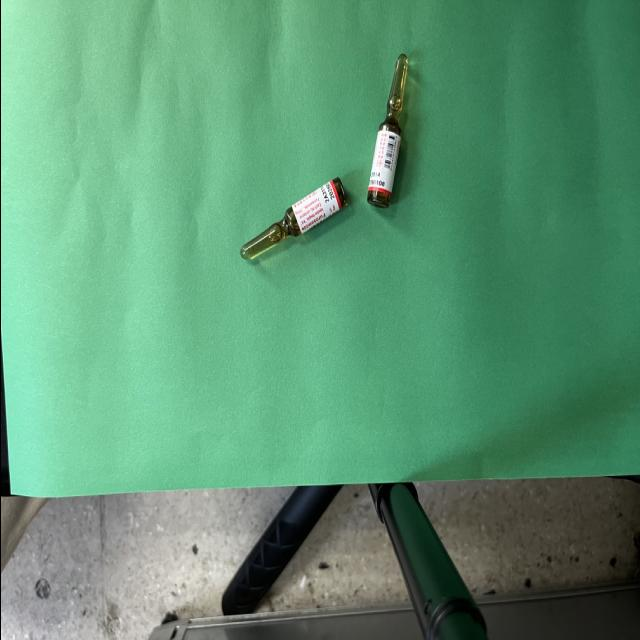Ampoules: (240, 176, 347, 259), (366, 53, 408, 208)
